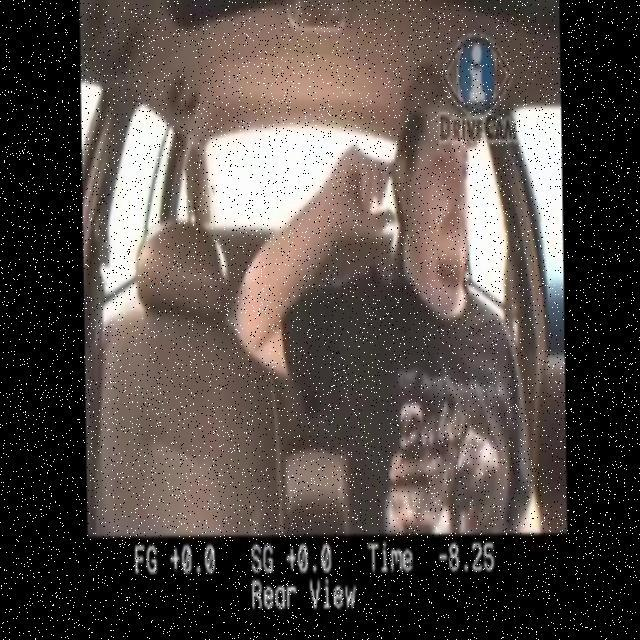noSeatbelt: (332, 260, 526, 530)
